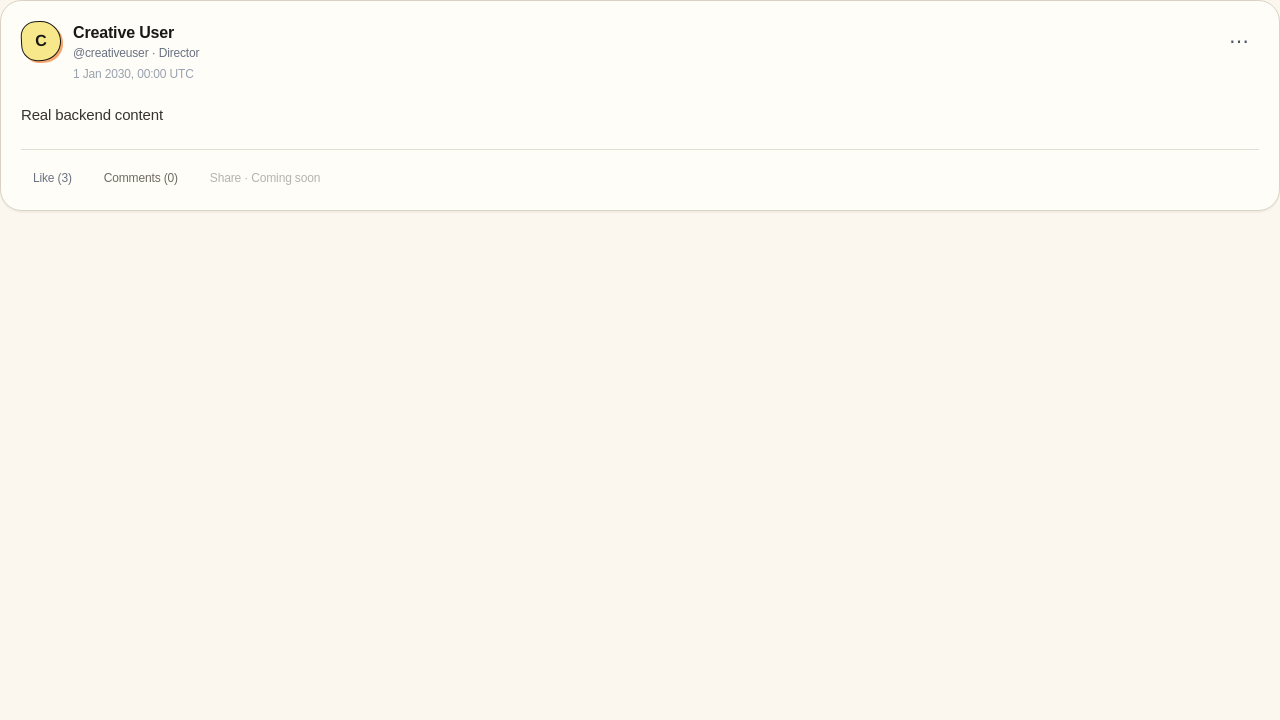
Test: feed UI › keeps the delete dialog open and displays failures
What coordinates should you click on to do the following:
click the button named "Post actions"
I would click on:
 (1239, 41)
Its box is [1219,21,1259,61].
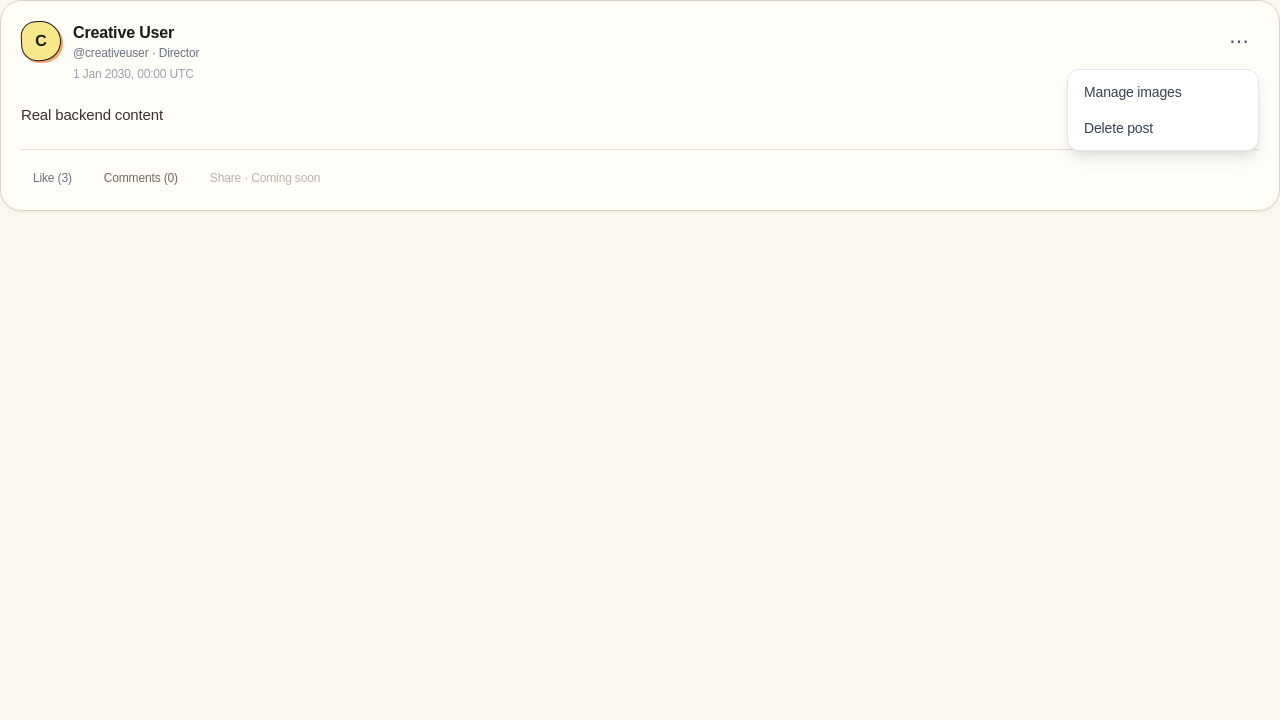
What coordinates should you click on to do the following:
click the menu item "Delete post"
I would click on:
 (1163, 128)
Its box is [1072,110,1254,146].
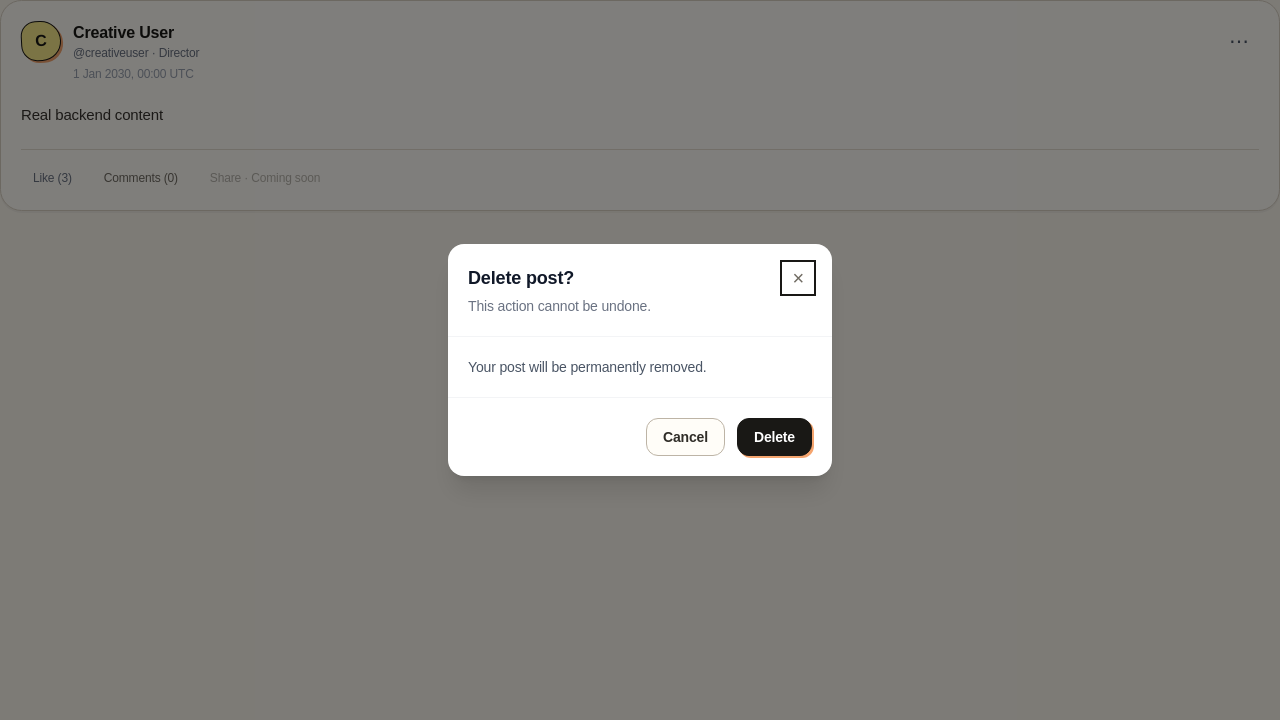
What coordinates should you click on to do the following:
click the button "Delete"
I would click on:
 (774, 437)
Its box is [737,418,812,456].
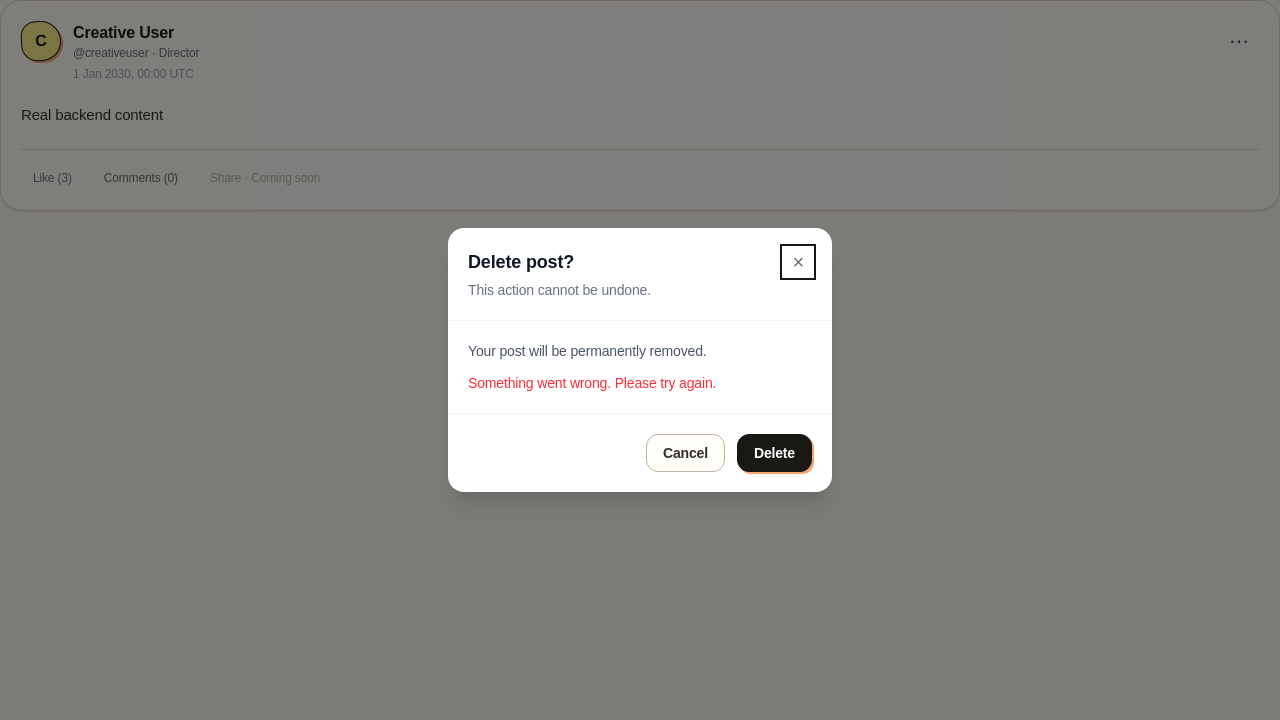
Expected: the text "Something went wrong. Please try again." is shown, [468,375,716,391]
